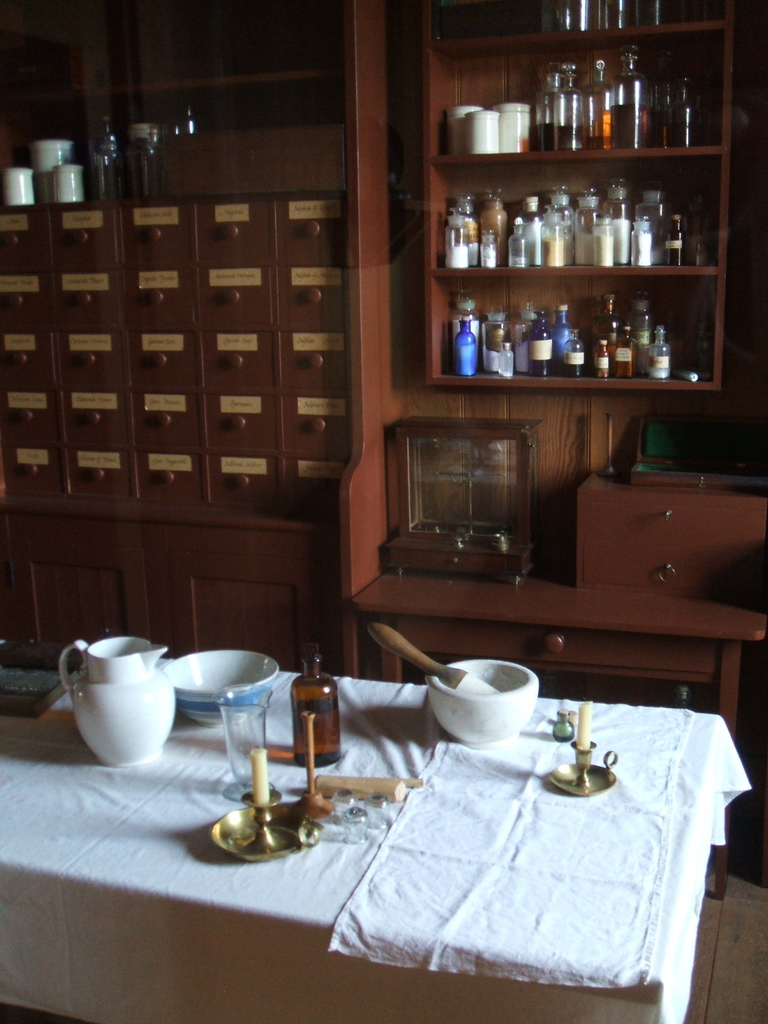Cabinetry: (0, 0, 767, 676), (352, 470, 767, 732)
